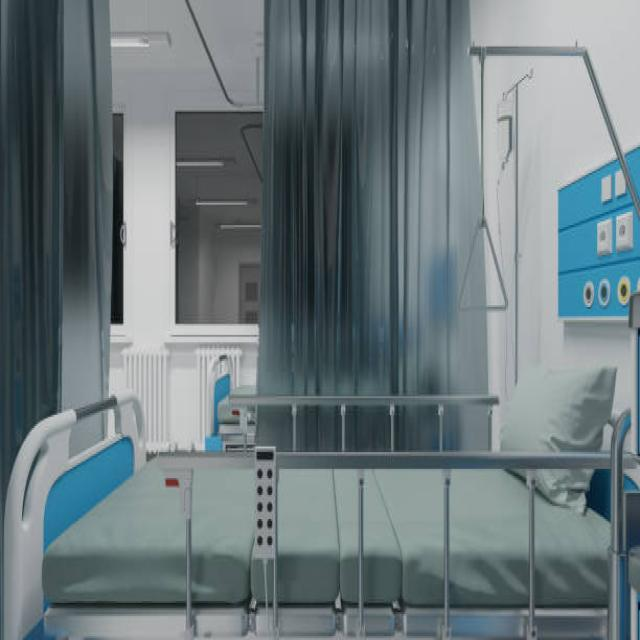bed: (3, 387, 638, 638)
